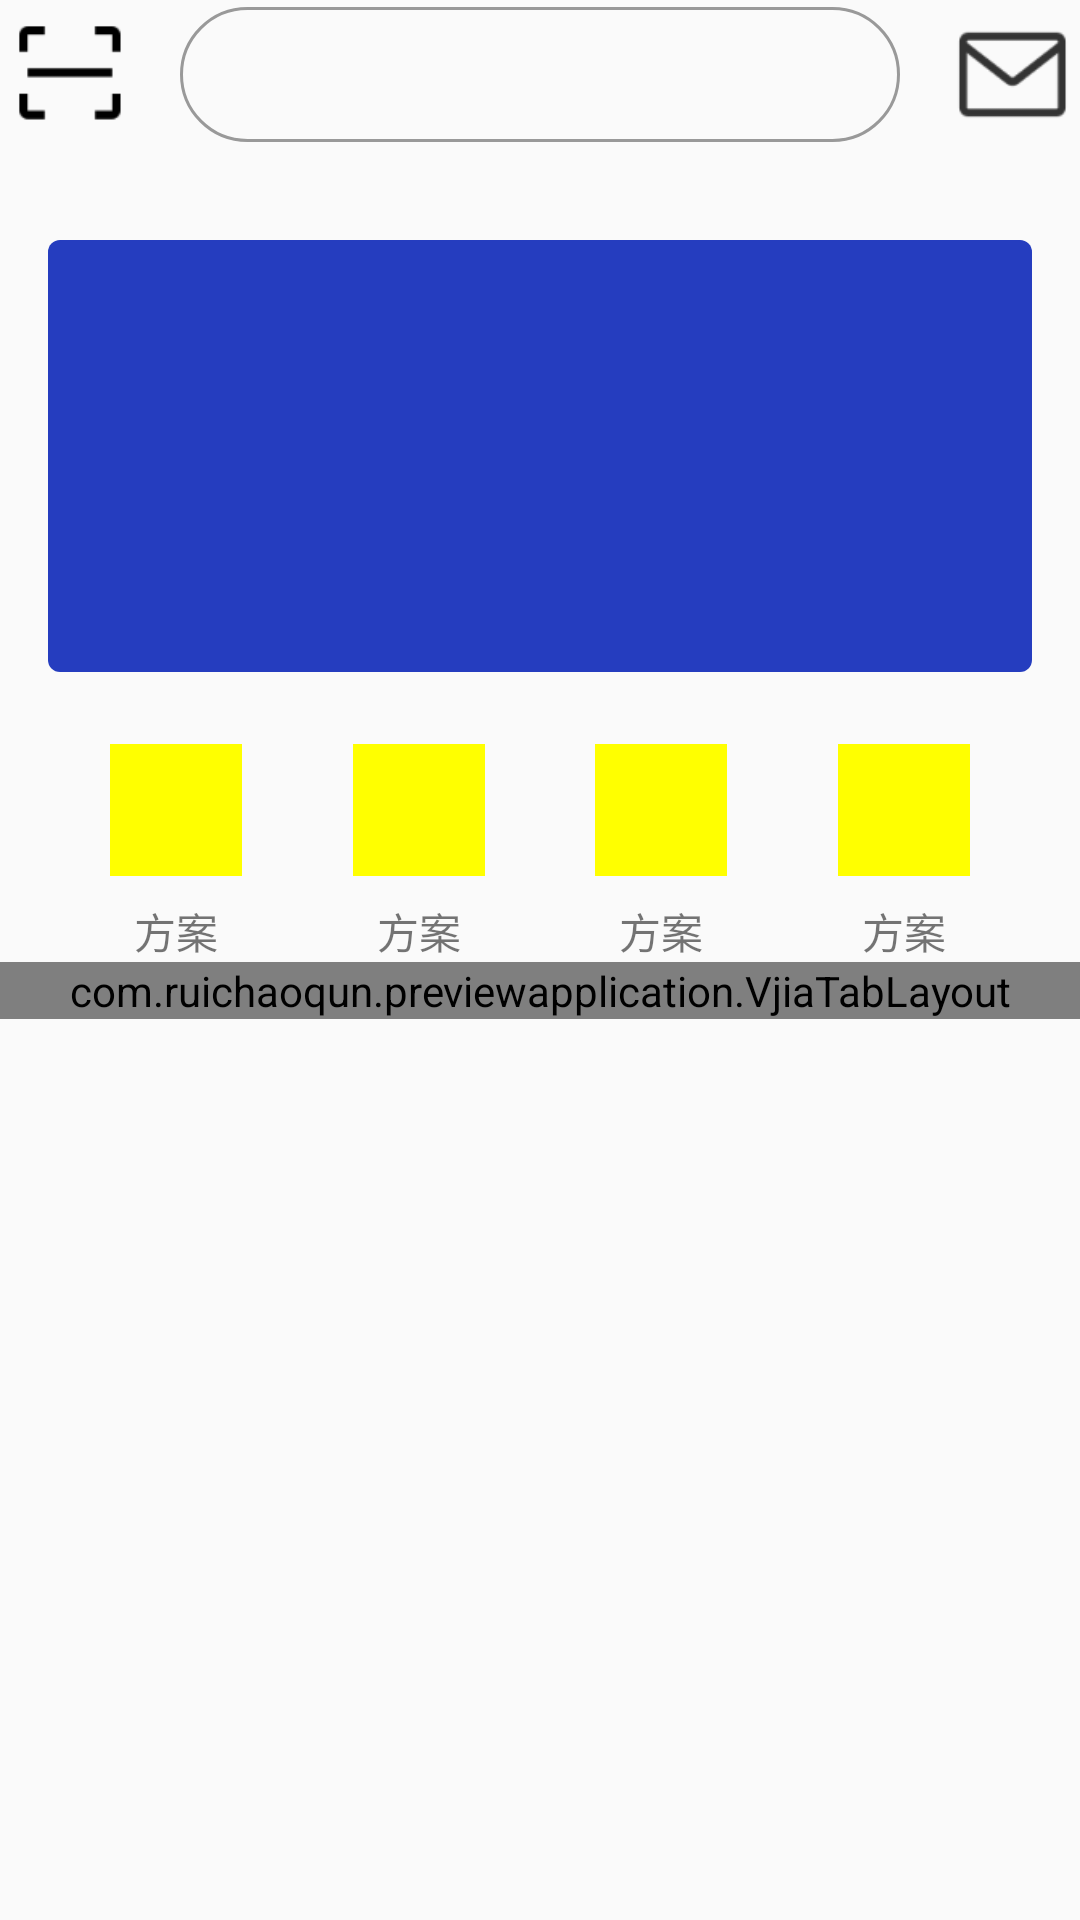

Icon click points for this 1080x1920 phone screenshot, format point (x, y):
scan: point (70, 73)
